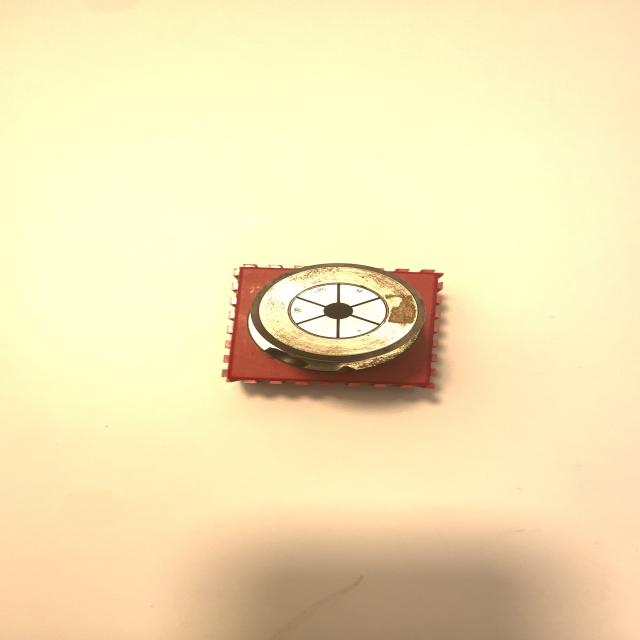Filled_Slot: (247, 264, 425, 372)
